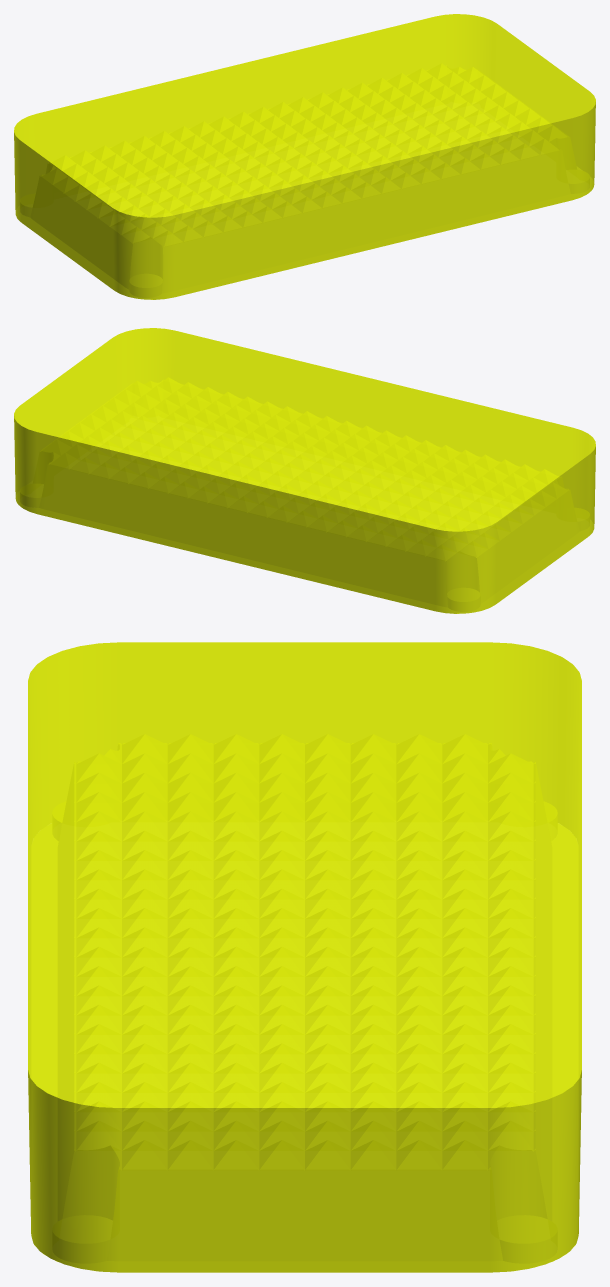
The model's file is Insert 0.75x1.5' Rectangular, Grid (PL-112REC-YT).fbx.
3 renders of one model, top to bottom at view 1: azimuth 30°, elevation 25°; view 2: azimuth 150°, elevation 25°; view 3: azimuth 270°, elevation 25°, orthographic. The views are drawn at different scales.
Visible parts, largest first — view 1: Insert 0.75x1.5' Rectangular, Grid (PL-112REC-YT); view 2: Insert 0.75x1.5' Rectangular, Grid (PL-112REC-YT); view 3: Insert 0.75x1.5' Rectangular, Grid (PL-112REC-YT).
Part boxes in pixels (<box>): Insert 0.75x1.5' Rectangular, Grid (PL-112REC-YT): <box>14,14,595,299</box>; Insert 0.75x1.5' Rectangular, Grid (PL-112REC-YT): <box>14,328,595,613</box>; Insert 0.75x1.5' Rectangular, Grid (PL-112REC-YT): <box>28,642,581,1272</box>.
Size of the model in its own units: 3.83 by 0.635 by 1.92.
